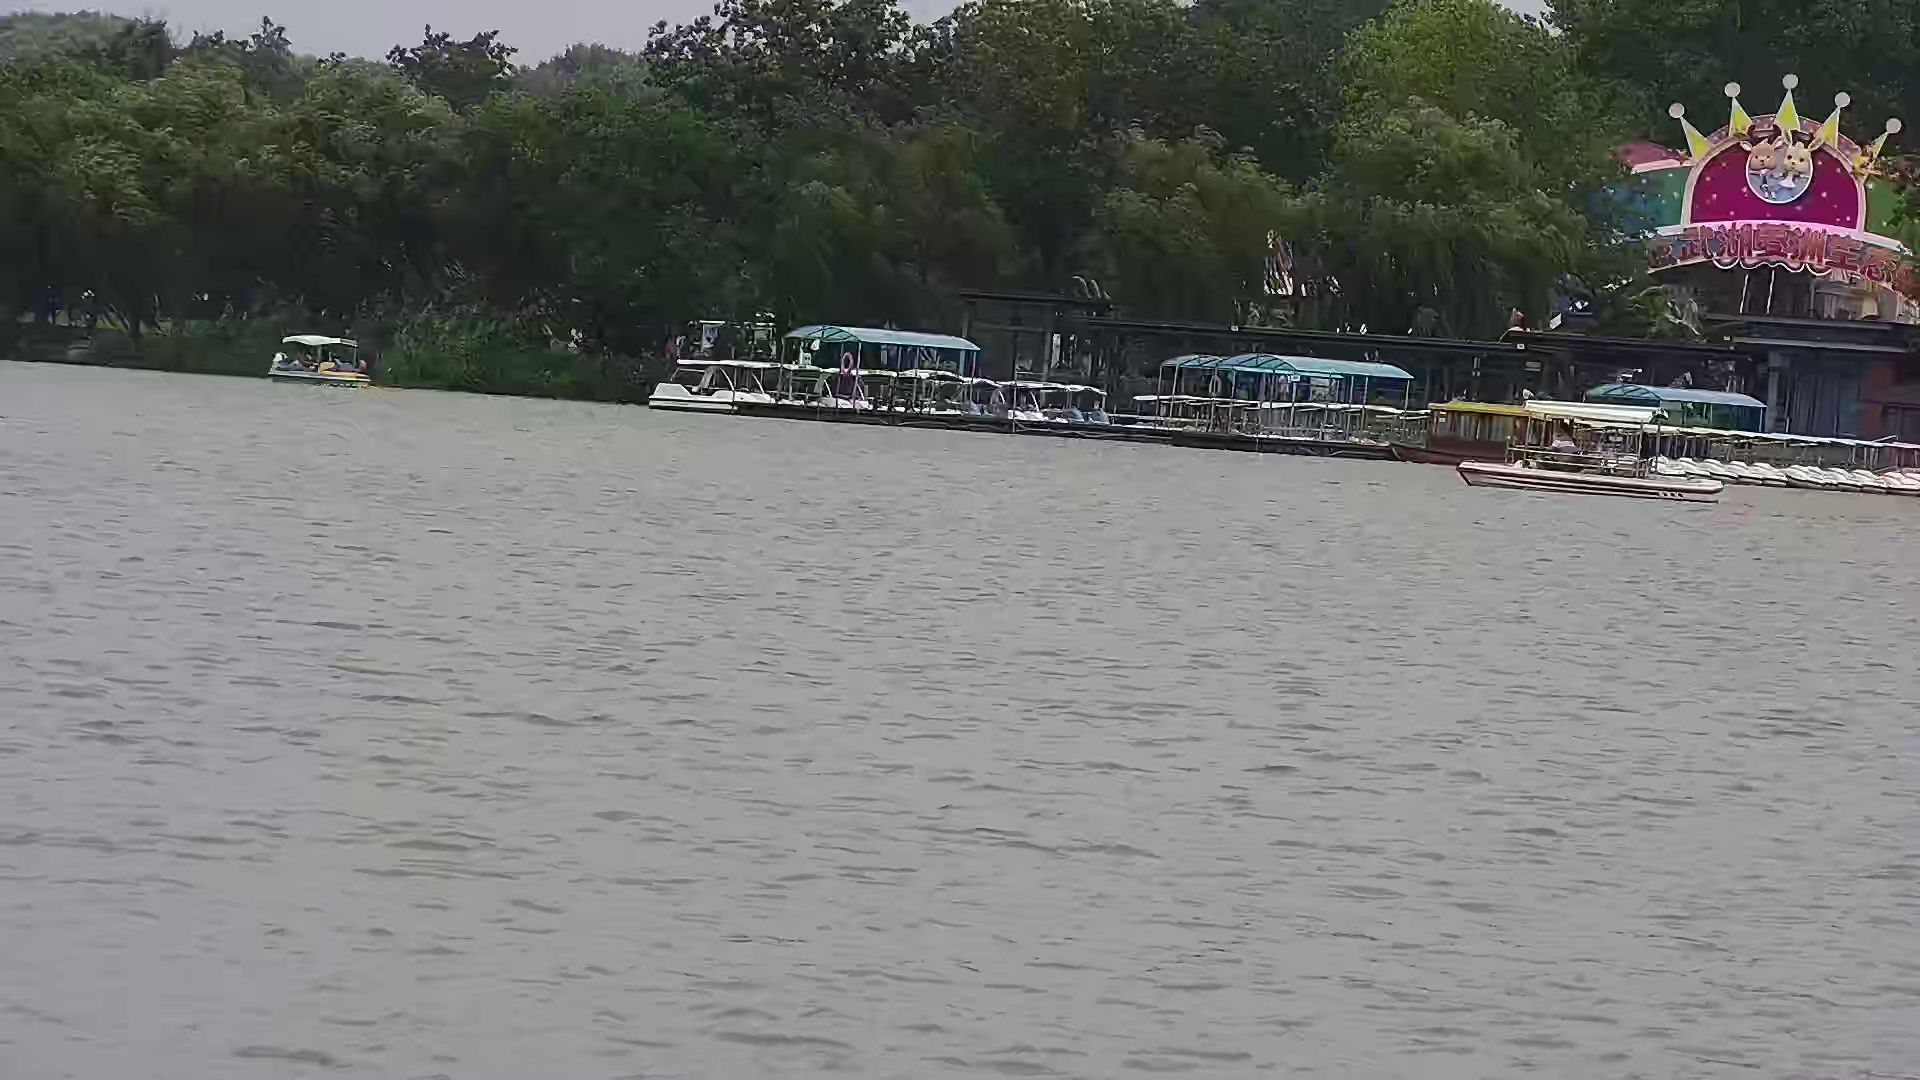boat: (1457, 392, 1730, 502), (261, 328, 375, 388)
harbor: (637, 311, 1445, 464)
